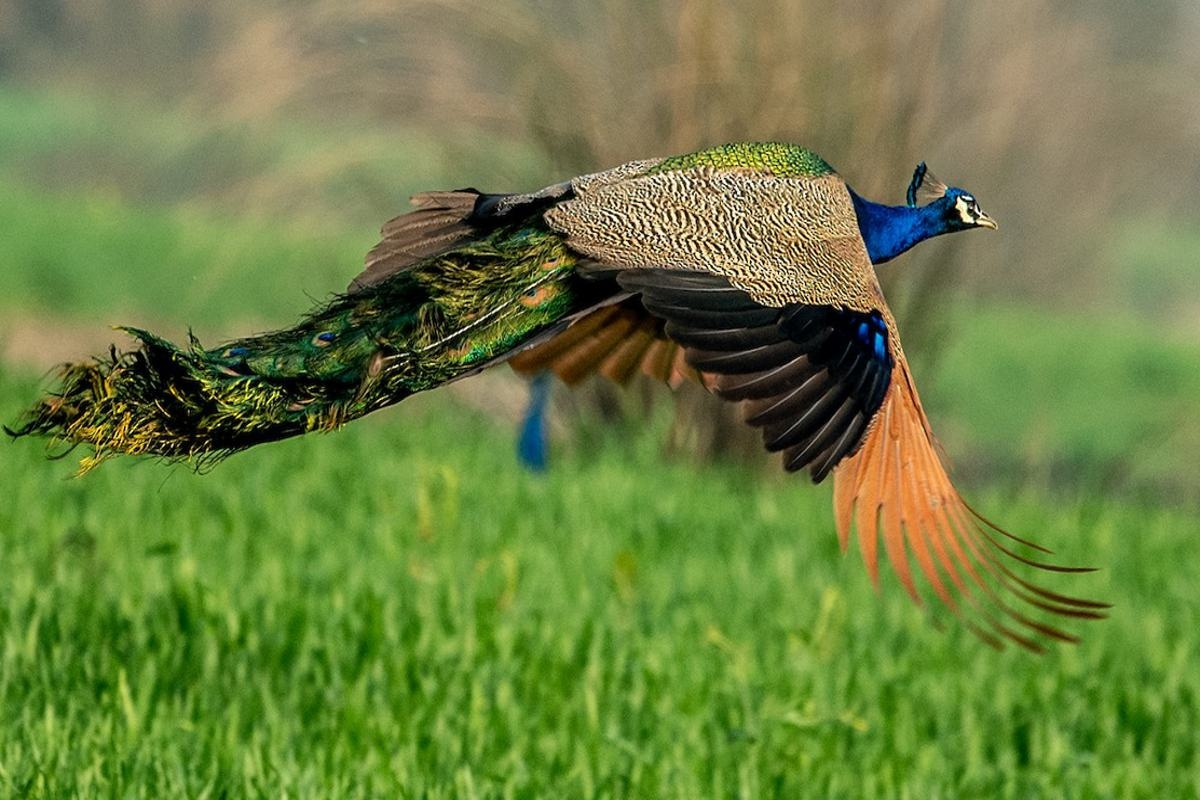peacock: (91, 128, 1091, 581)
